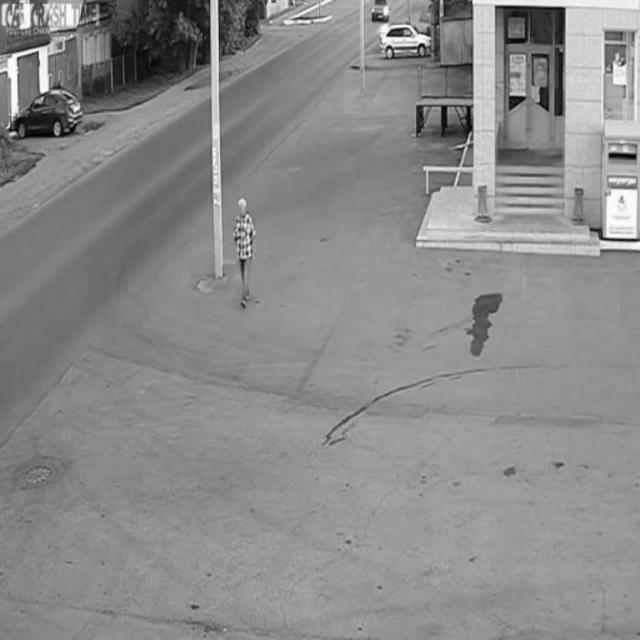person: (234, 198, 254, 311)
vehicle: (12, 86, 82, 143), (381, 18, 436, 60), (370, 1, 390, 23)
